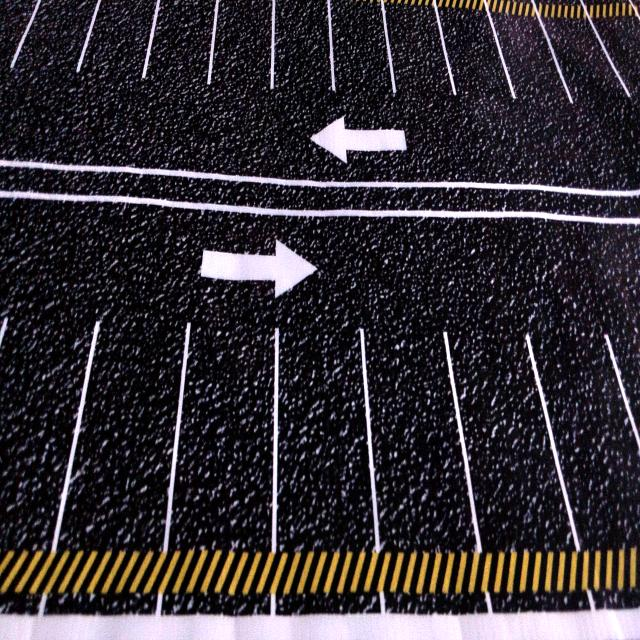slots: (60, 300, 185, 549), (450, 304, 570, 549), (365, 302, 475, 550), (170, 301, 275, 549), (532, 320, 640, 548), (0, 296, 94, 547), (278, 322, 374, 550), (542, 9, 631, 116), (439, 8, 510, 104), (83, 0, 155, 84), (13, 0, 97, 72), (331, 2, 390, 103), (386, 2, 448, 98), (212, 1, 272, 100), (147, 1, 215, 87), (492, 14, 559, 98), (275, 0, 330, 97), (594, 17, 640, 102)
